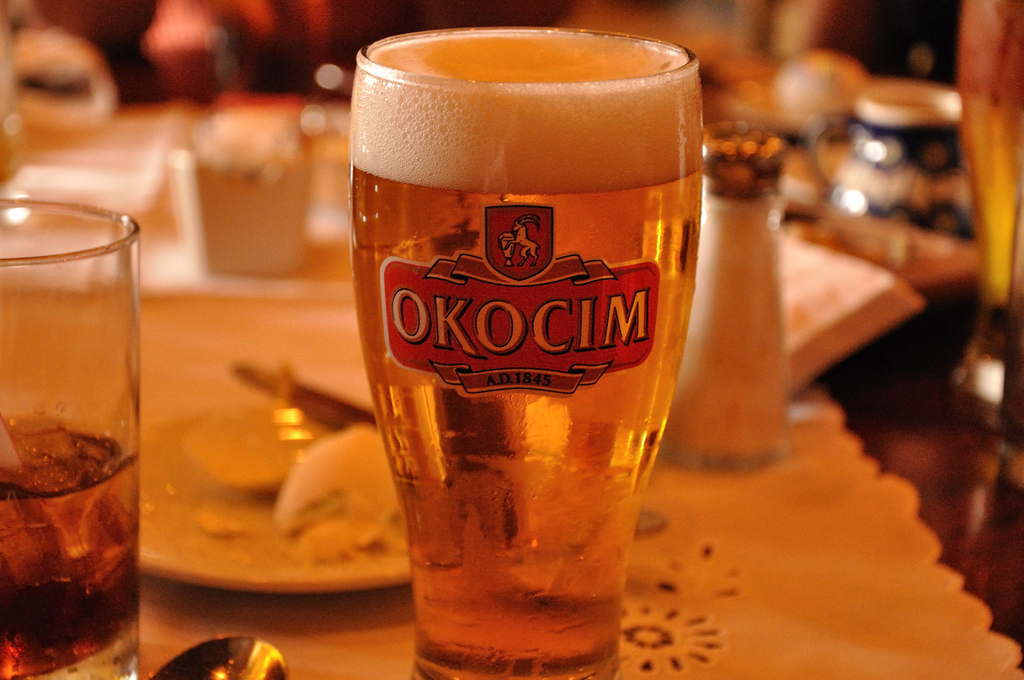Beer: (335, 11, 706, 679), (3, 192, 167, 679)
